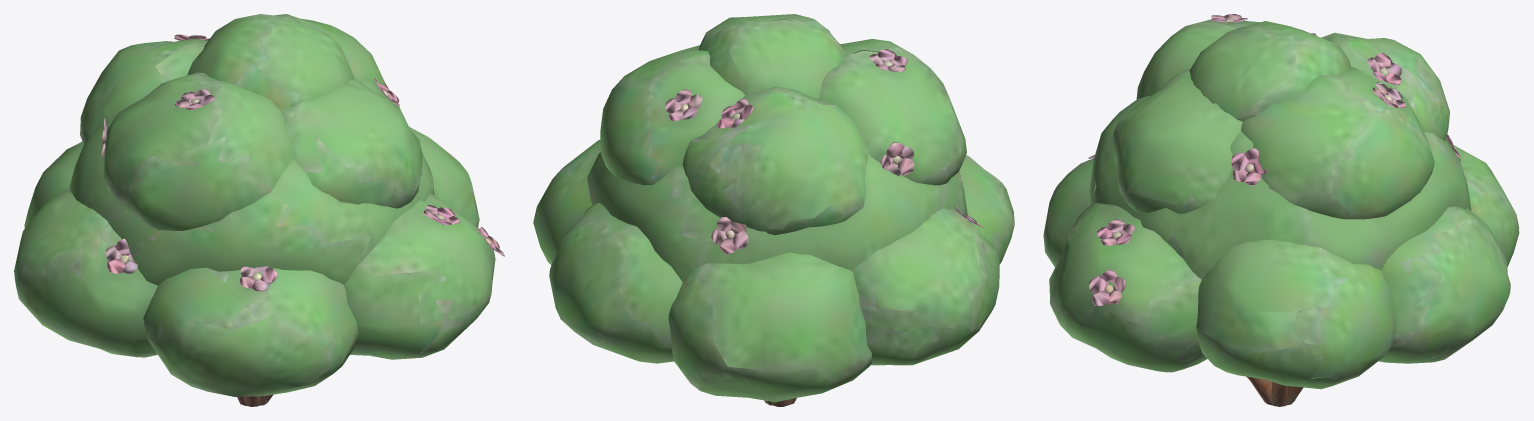
File: bush.glb
The picture shows the model from 3 angles, left to right: view 1: azimuth 30°, elevation 25°; view 2: azimuth 150°, elevation 25°; view 3: azimuth 270°, elevation 25°; orthographic projection.
Visible parts, largest first — view 1: bush_body; view 2: bush_body; view 3: bush_body.
Part boxes in pixels (bbox=[...]): bush_body: bbox=[14, 14, 504, 406]; bush_body: bbox=[533, 14, 1014, 406]; bush_body: bbox=[1043, 14, 1519, 406].
Size of the model in its own units: 1.33 by 1.09 by 1.26.
Materials: 1 (1 with a texture image).
